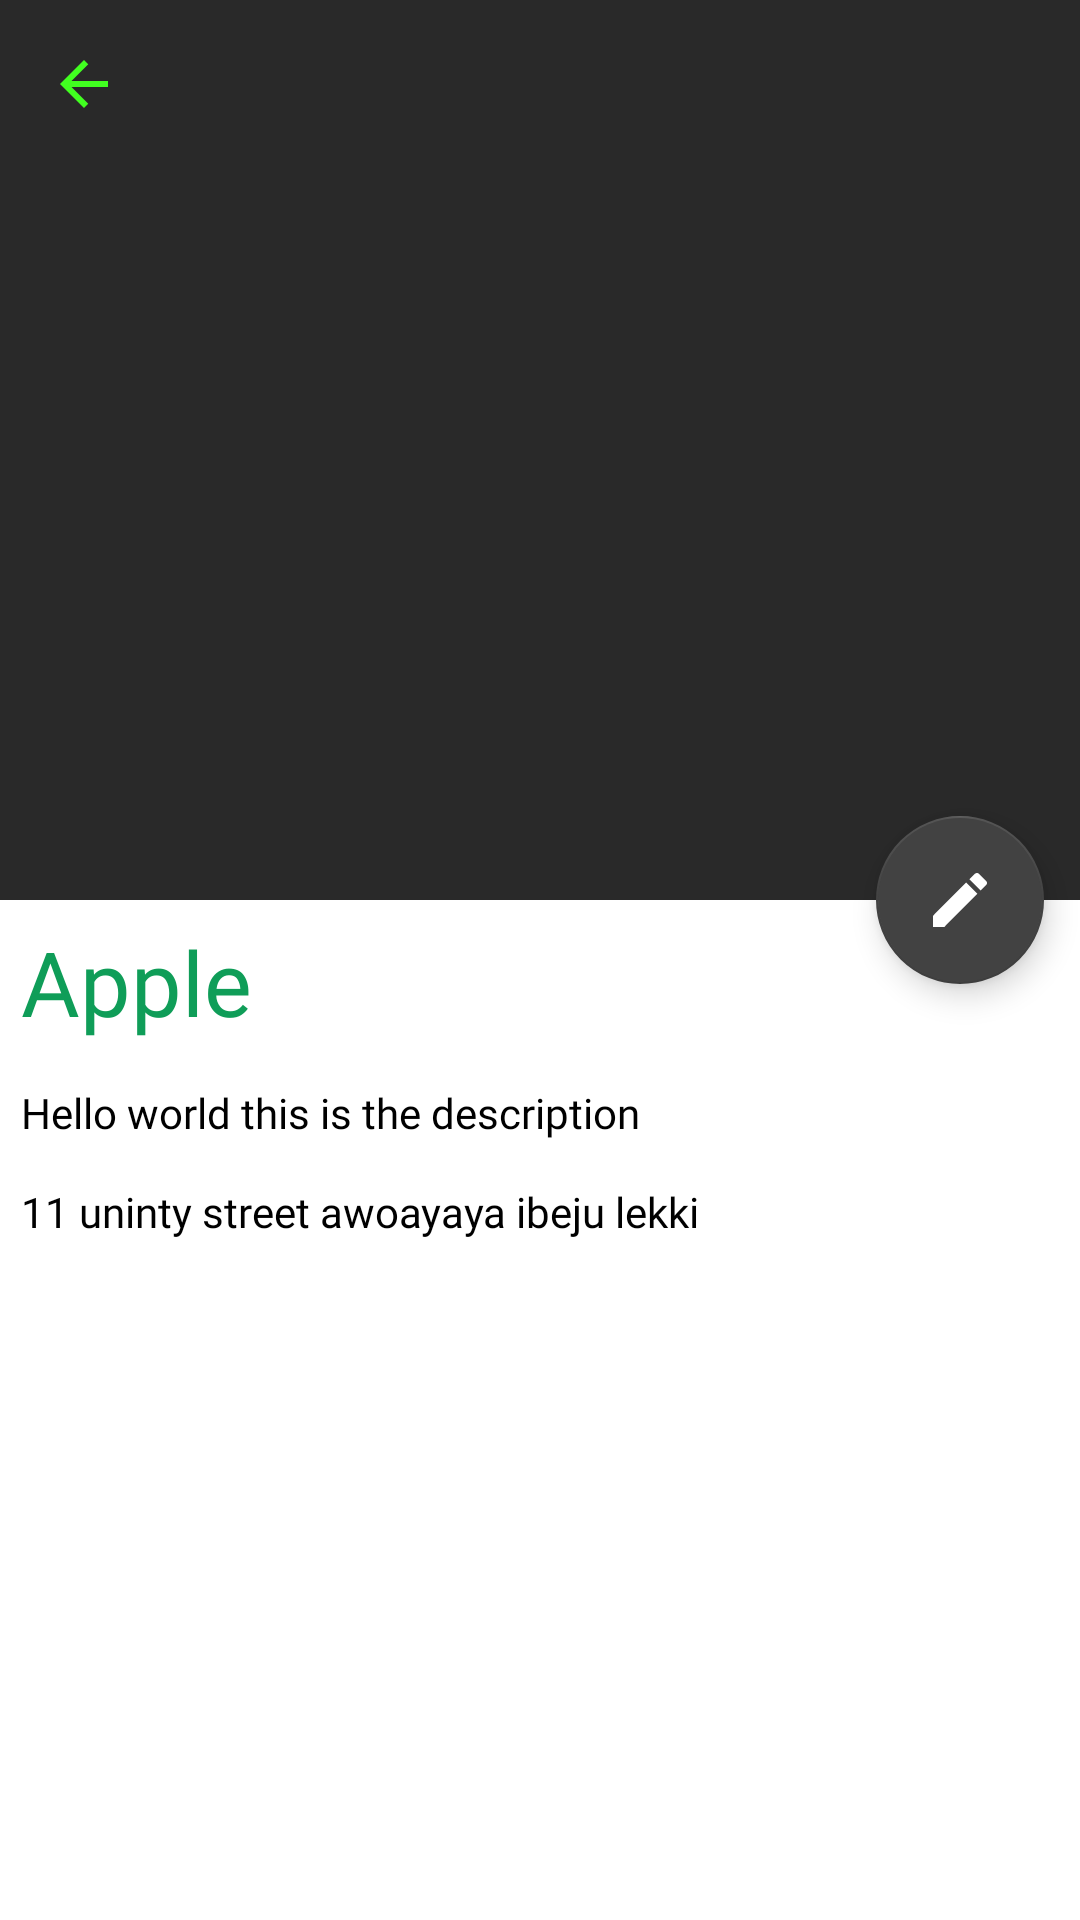

Icons on this 1080w x 1920h Android screen, each with the point to tap as [x,y]:
edit: [960,900]
